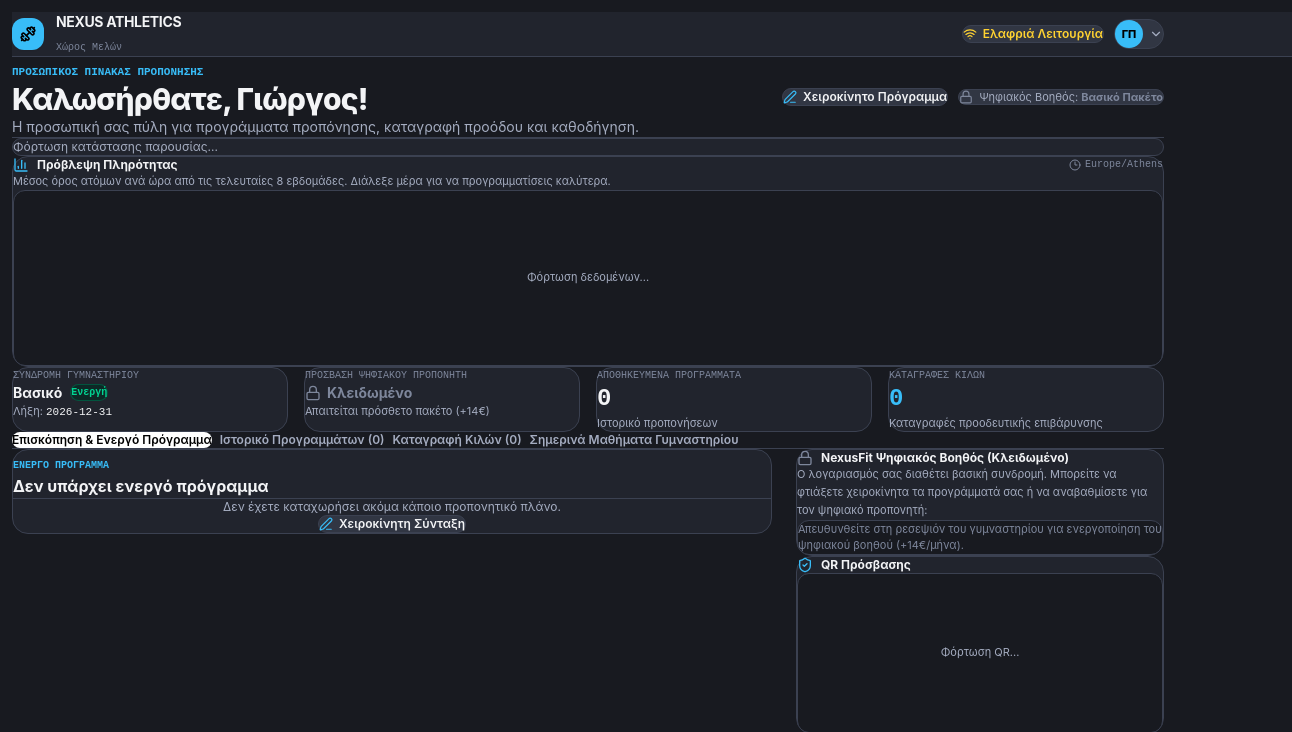
Test: MemberPortalPage (the member's home screen) › shows an empty state instead of a blank tab when nothing is logged
Click the button "Καταγραφή Κιλών (0)" at (457, 440), box [392,432,522,448]
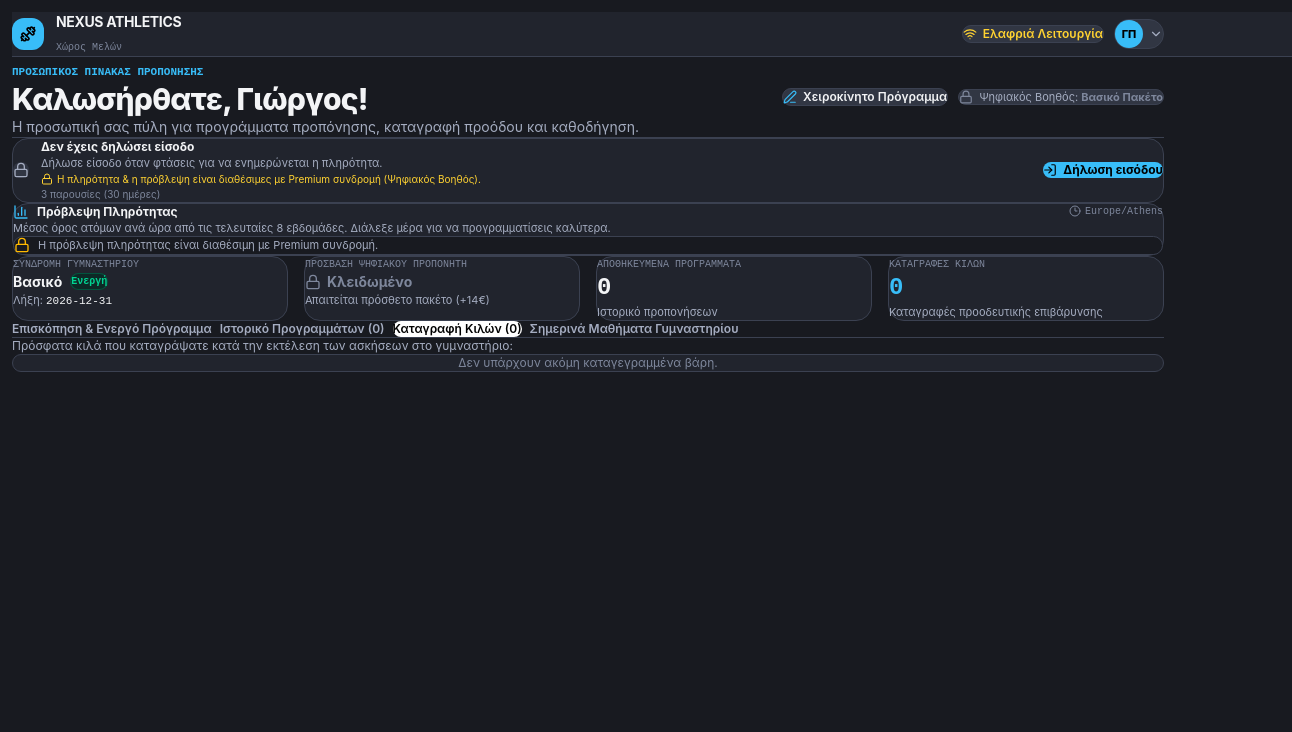
Expected: the text "Δεν υπάρχουν ακόμη καταγεγραμμένα βάρη." is shown, [12,354,1164,372]
